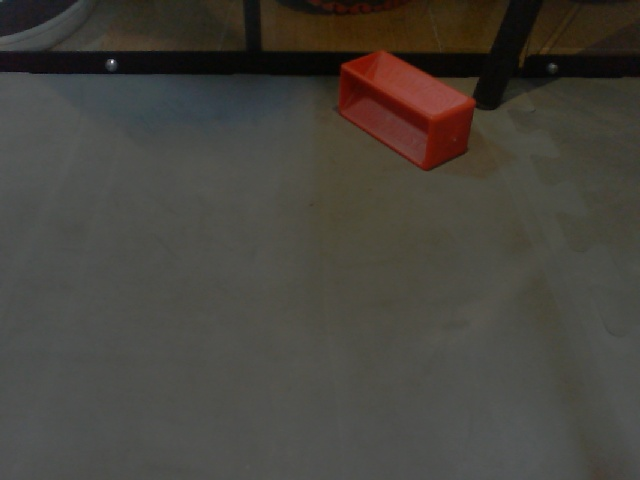RedSample: (337, 49, 476, 171)
